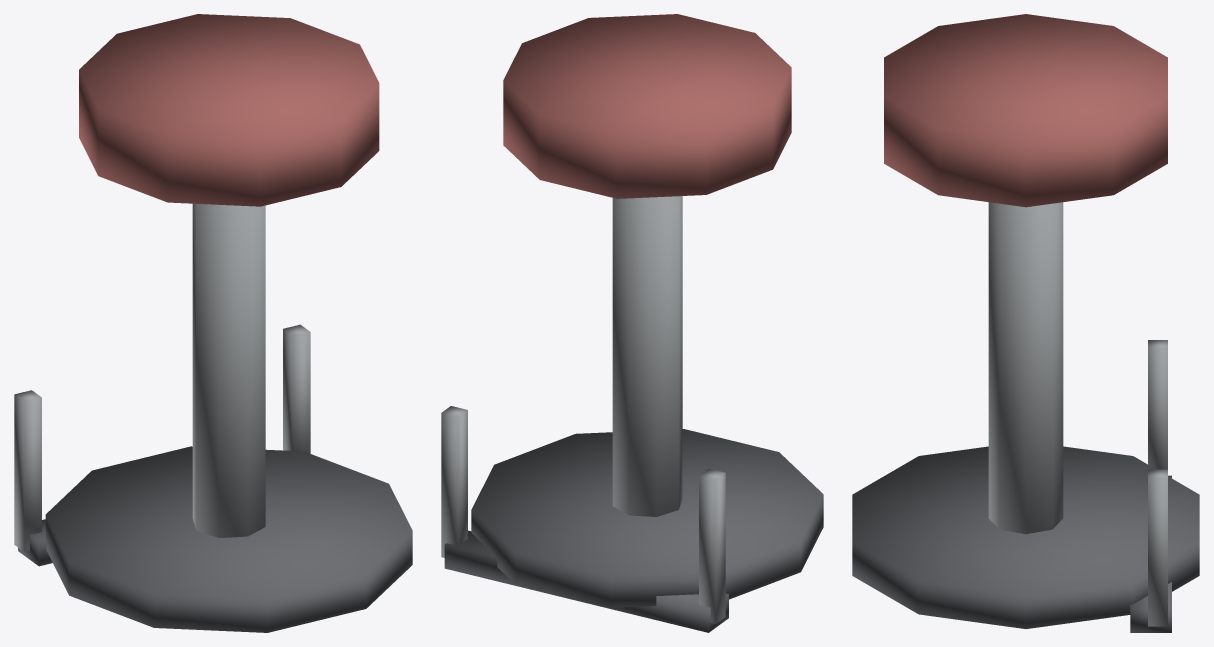
Rendered from diner_counter_stool_module__reinforced.glb.
3 renders of one model, left to right at view 1: azimuth 30°, elevation 25°; view 2: azimuth 150°, elevation 25°; view 3: azimuth 270°, elevation 25°, orthographic. The views are drawn at different scales.
Visible parts, largest first — view 1: world; view 2: world; view 3: world.
Boxes of the visible parts, x1,y1,x2,y2 form: world: [14, 14, 412, 632]; world: [441, 14, 823, 632]; world: [852, 14, 1199, 632].
Size of the model in its own units: 0.4532 by 0.6783 by 0.431.
